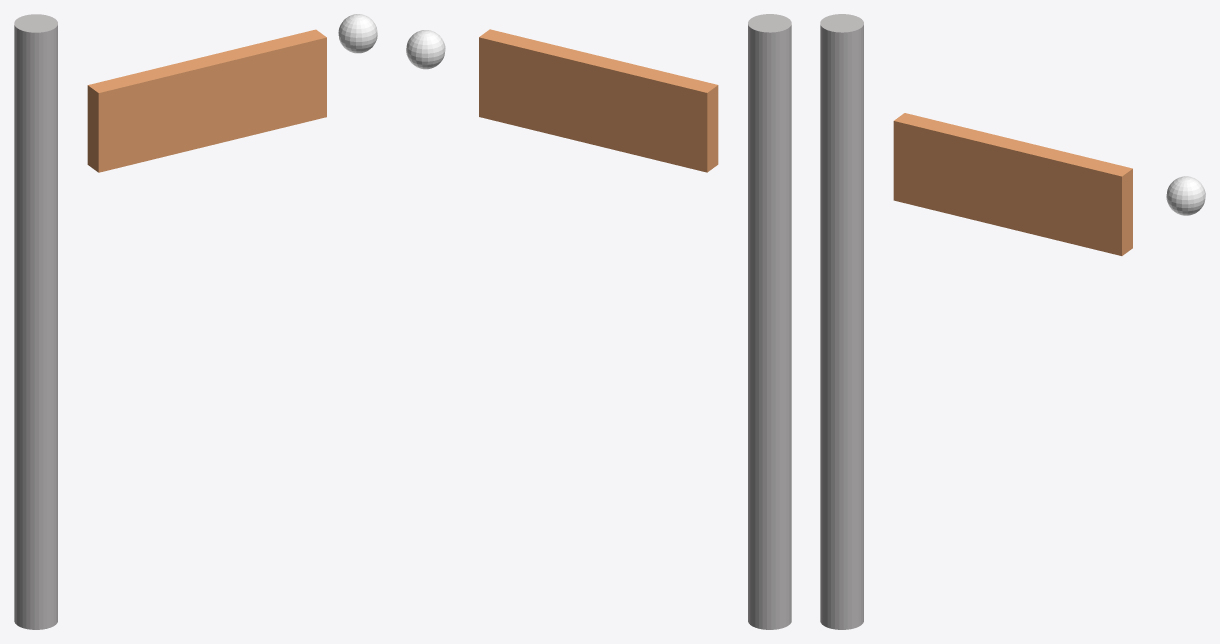
Rendered from pickup.koi-banner.v1.glb.
3 views of the same model, side by side, from view 1: azimuth 30°, elevation 25°; view 2: azimuth 150°, elevation 25°; view 3: azimuth 330°, elevation 25° (orthographic).
Visible parts, largest first — view 1: pickup.koi-banner.v1_pole, pickup.koi-banner.v1_banner, pickup.koi-banner.v1_eye; view 2: pickup.koi-banner.v1_pole, pickup.koi-banner.v1_banner, pickup.koi-banner.v1_eye; view 3: pickup.koi-banner.v1_pole, pickup.koi-banner.v1_banner, pickup.koi-banner.v1_eye.
Boxes of the visible parts, bbox=[...] form: pickup.koi-banner.v1_pole: bbox=[14, 14, 57, 629]; pickup.koi-banner.v1_banner: bbox=[87, 29, 326, 172]; pickup.koi-banner.v1_eye: bbox=[338, 14, 377, 53]; pickup.koi-banner.v1_pole: bbox=[748, 14, 791, 629]; pickup.koi-banner.v1_banner: bbox=[479, 29, 718, 172]; pickup.koi-banner.v1_eye: bbox=[406, 30, 445, 69]; pickup.koi-banner.v1_pole: bbox=[820, 14, 863, 629]; pickup.koi-banner.v1_banner: bbox=[893, 113, 1132, 255]; pickup.koi-banner.v1_eye: bbox=[1166, 176, 1205, 215].
Size of the model in its own units: 0.388 by 0.6 by 0.058.
